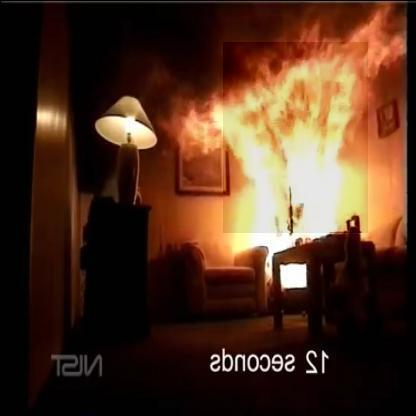Fire: (220, 41, 366, 233)
